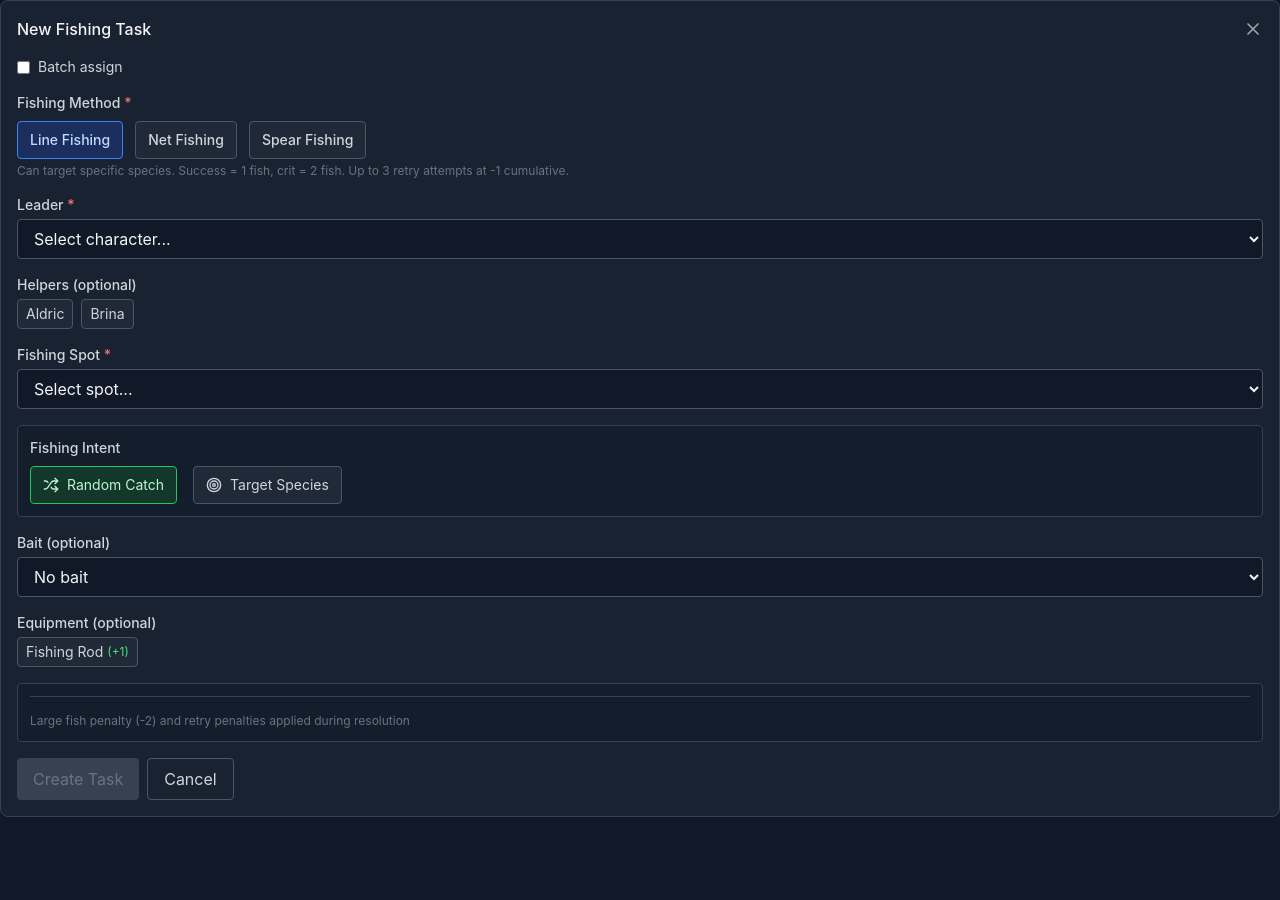
Test: FishingTaskForm › rendering › renders species select when targeting mode is selected
The image size is (1280, 900).
Must select a spot first, then click Target Species
Select "River Bank" in the dropdown with test id "spot-select" at (640, 389), box [17, 369, 1263, 409]
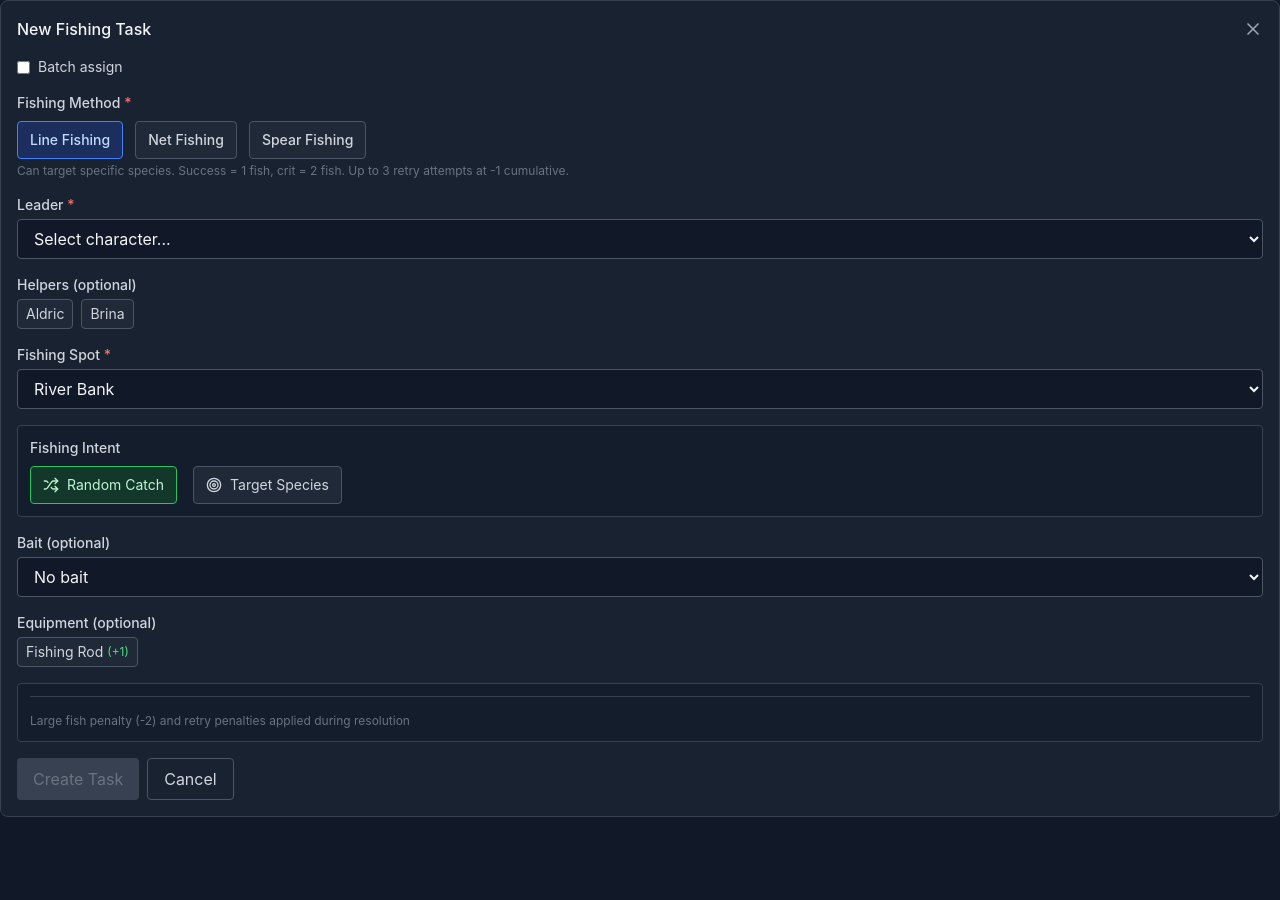
Click on "Target Species" to enable targeting mode
Click the text "Target Species" at (280, 485), box [230, 475, 329, 495]
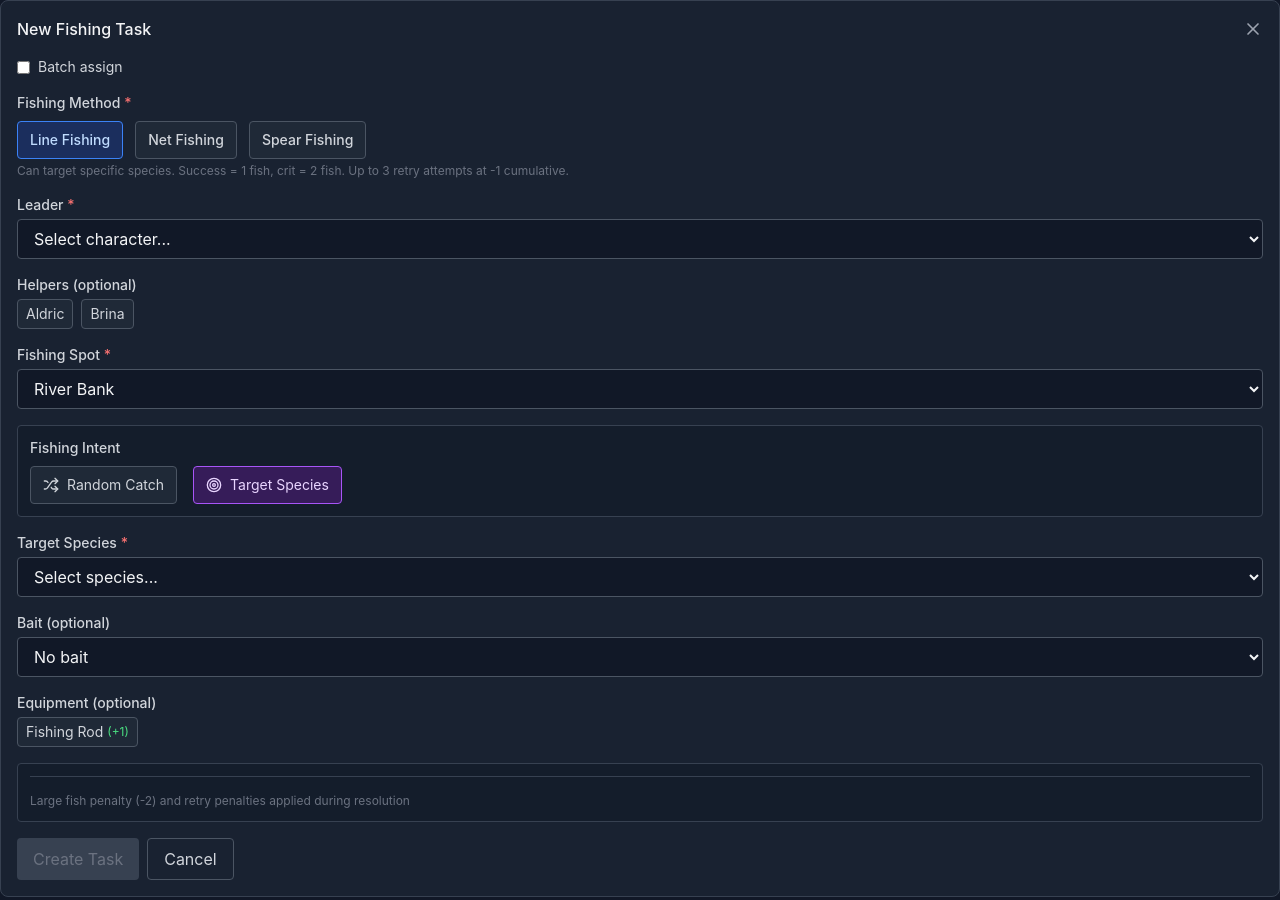
Check: the dropdown with test id "species-select" is shown, box [17, 557, 1263, 597]
